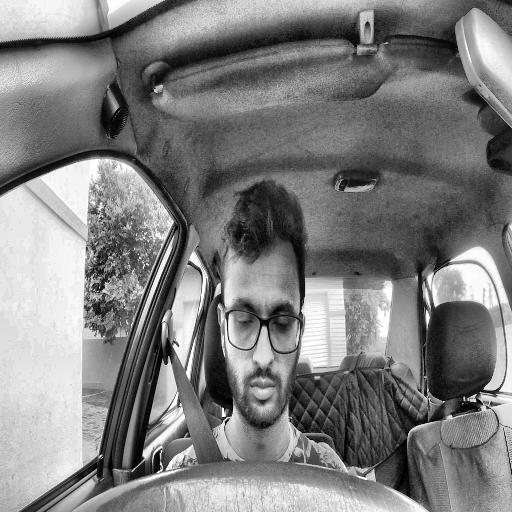drowsy: (216, 180, 310, 431)
